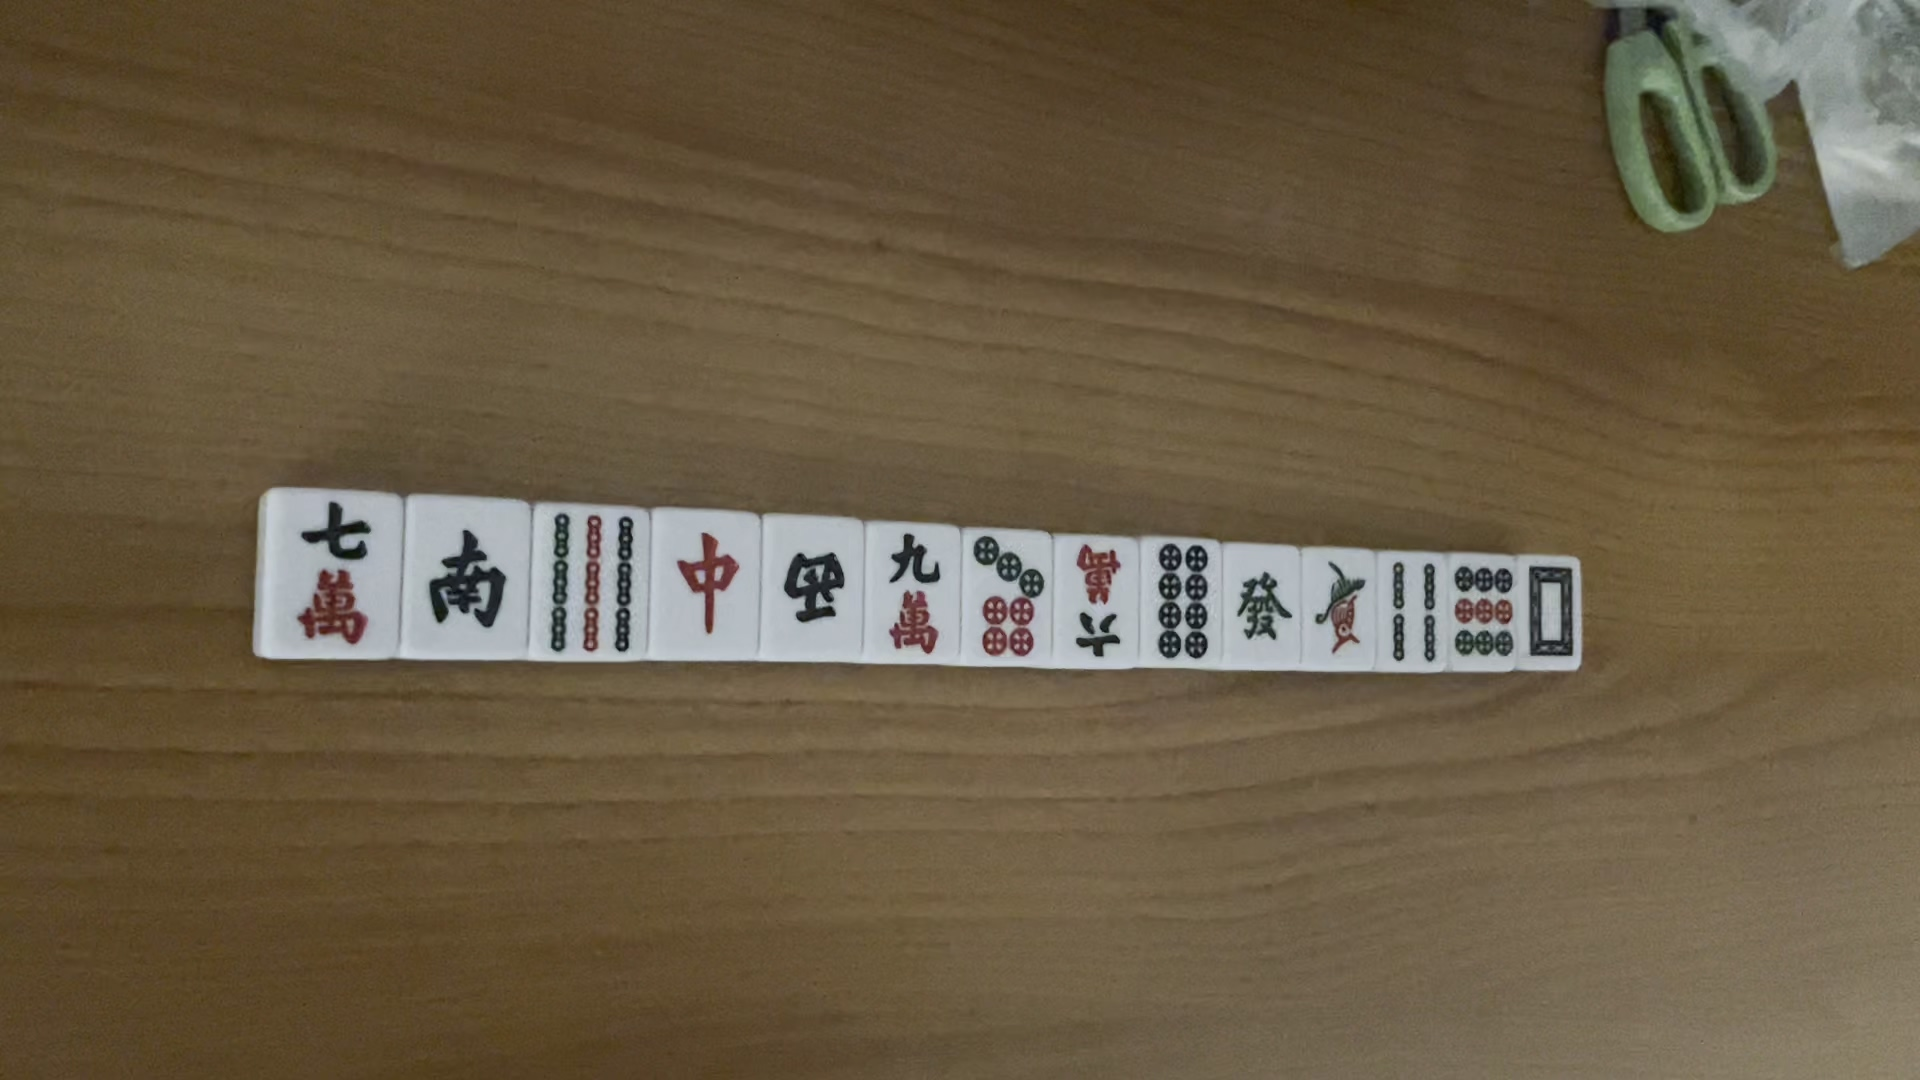b-1: (1304, 559, 1371, 659)
b-4: (1386, 560, 1443, 670)
b-9: (535, 516, 640, 647)
c-6: (1055, 541, 1135, 665)
c-7: (265, 496, 386, 653)
c-9: (881, 534, 944, 655)
d-7: (971, 533, 1048, 665)
d-8: (1147, 537, 1220, 663), (1229, 563, 1294, 650)
d-9: (1451, 556, 1523, 670)
honors-red: (674, 533, 736, 630)
honors-south: (413, 517, 516, 636)
honors-west: (775, 535, 849, 638)
honors-white: (1523, 556, 1581, 663)
